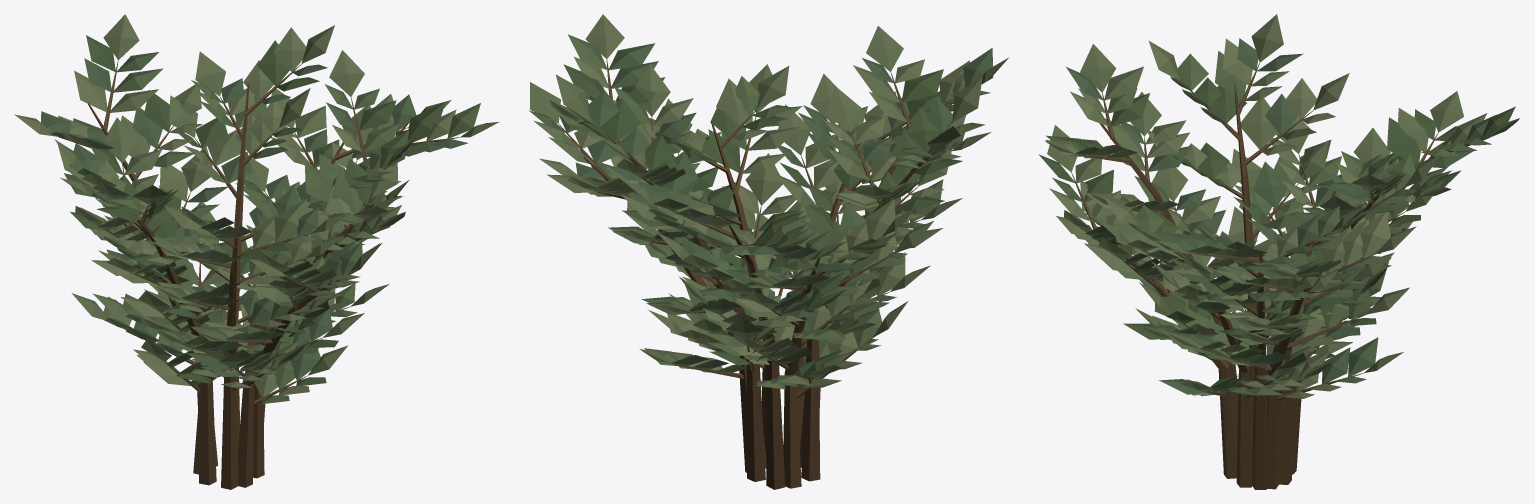
The model's file is shore-shrub.glb.
3 renders of one model, left to right at view 1: azimuth 30°, elevation 25°; view 2: azimuth 150°, elevation 25°; view 3: azimuth 270°, elevation 25°, orthographic. The views are drawn at different scales.
Parts seen in each view (by area): view 1: Willow shrub / arching stems and closed leaves; view 2: Willow shrub / arching stems and closed leaves; view 3: Willow shrub / arching stems and closed leaves.
Boxes of the visible parts, bbox=[...] form: Willow shrub / arching stems and closed leaves: bbox=[14, 14, 499, 489]; Willow shrub / arching stems and closed leaves: bbox=[529, 14, 1009, 489]; Willow shrub / arching stems and closed leaves: bbox=[1039, 14, 1519, 489].
Size of the model in its own units: 1.68 by 1.51 by 1.74.
